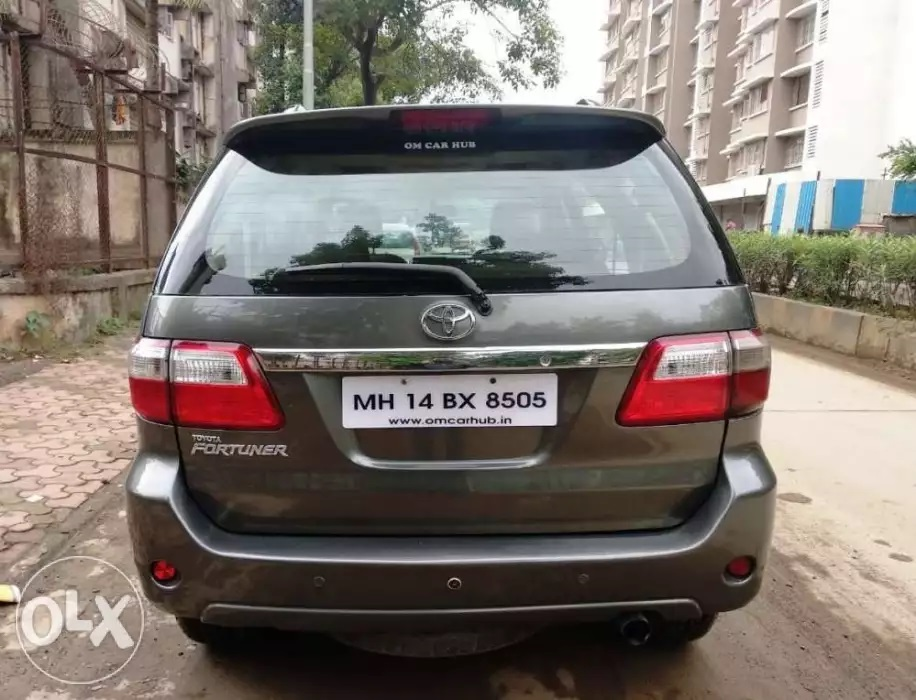licenseplate: (338, 371, 568, 433)
